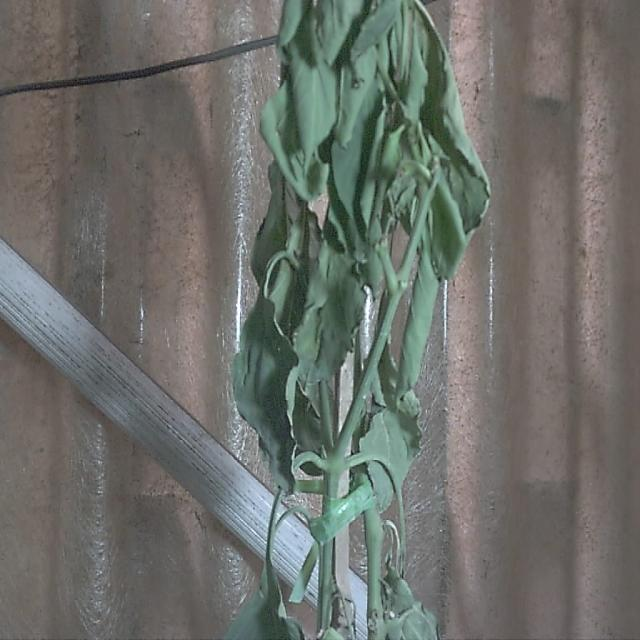Leaf: (232, 285, 299, 501)
